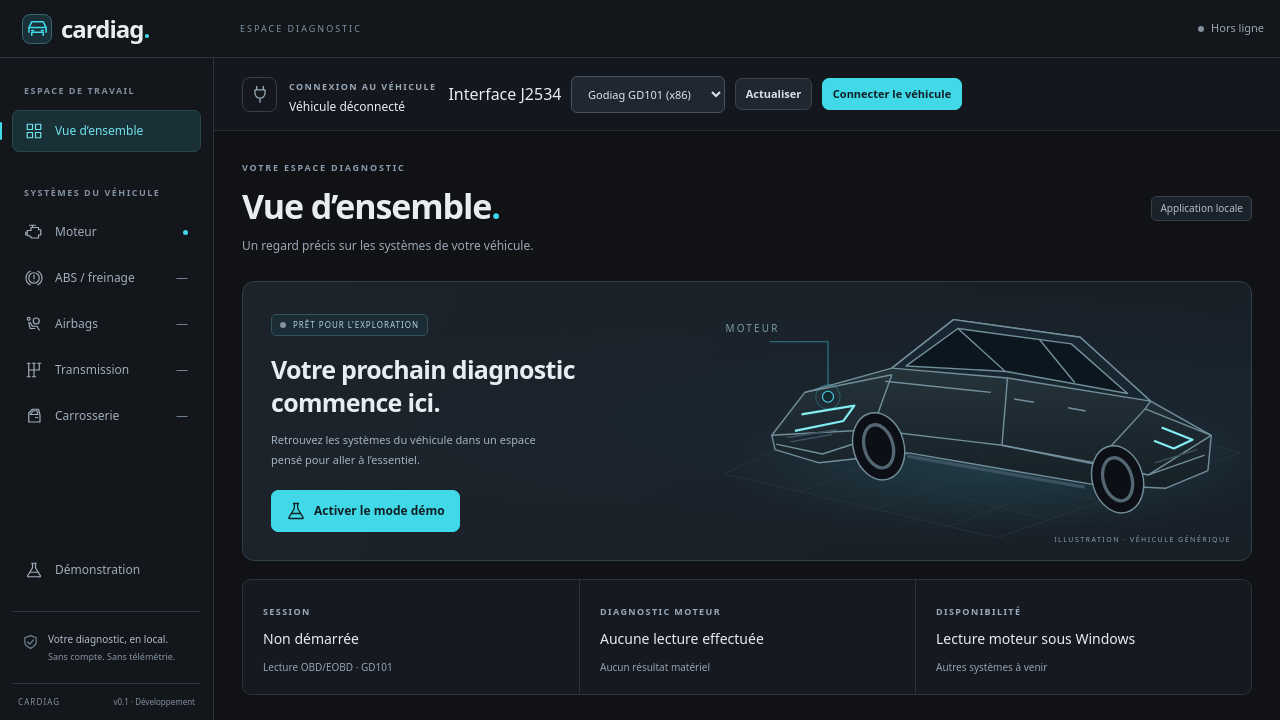
Scenario: lecture matérielle › distingue une lecture vide partielle (false) d’un résultat complet
The image size is (1280, 720).
What coordinates should you click on to do the following:
click the button "Connecter le véhicule"
I would click on:
 (892, 94)
Its box is [822,78,962,110].
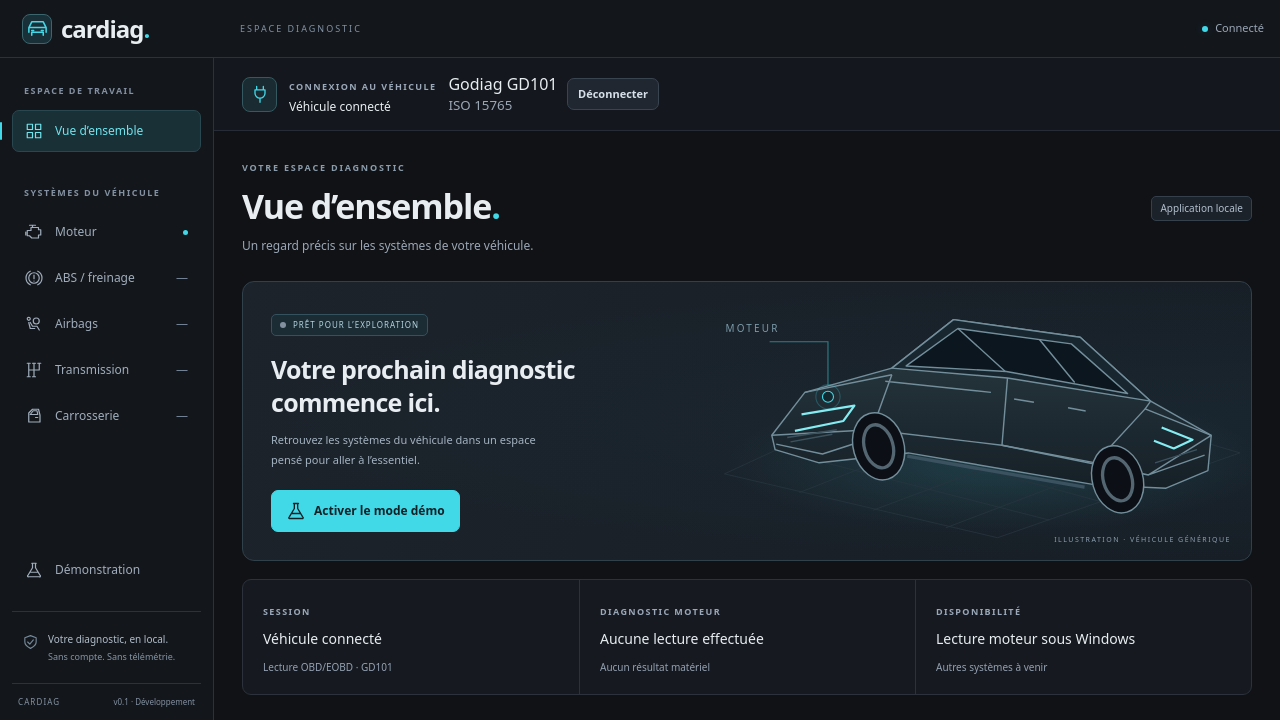
Expected: the message reads "Véhicule connecté", [289,98,391,115]
What coordinates should you click on to do the following:
click the button "Moteur"
I would click on:
 (106, 232)
Its box is [12,211,201,253].
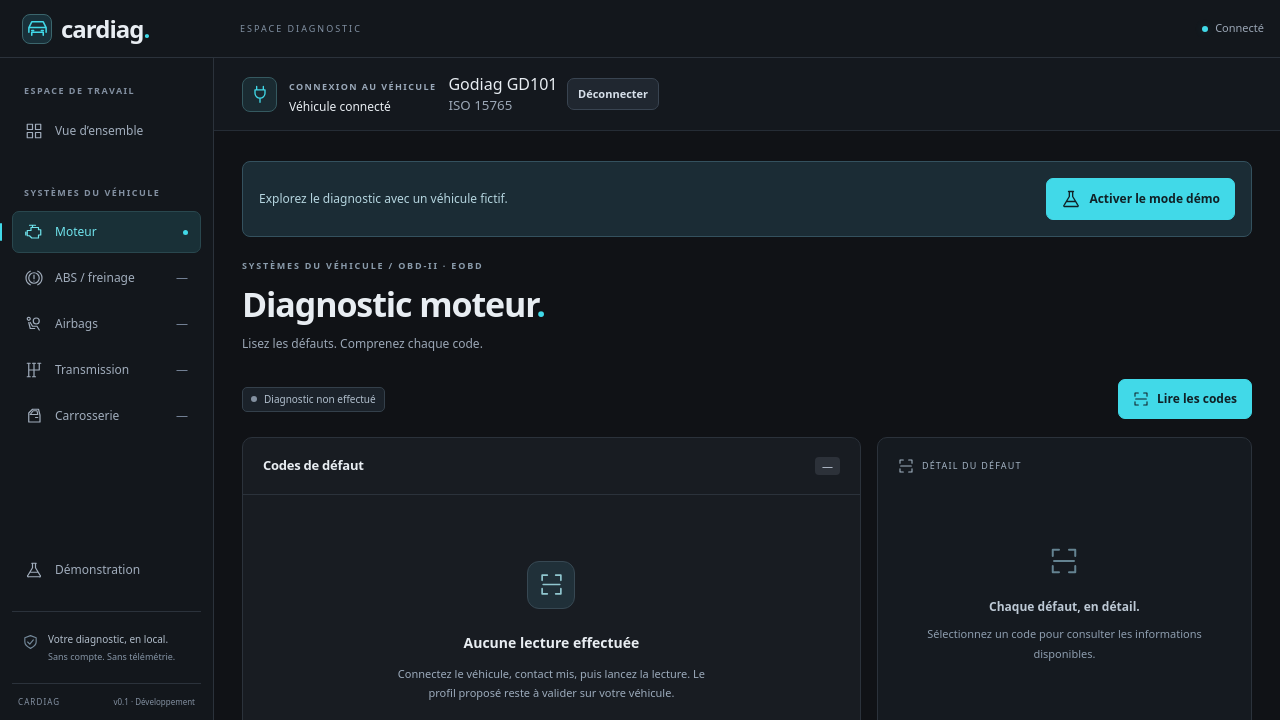
What coordinates should you click on to do the following:
click the button "Lire les codes"
I would click on:
 (1185, 399)
Its box is [1118,379,1252,419].
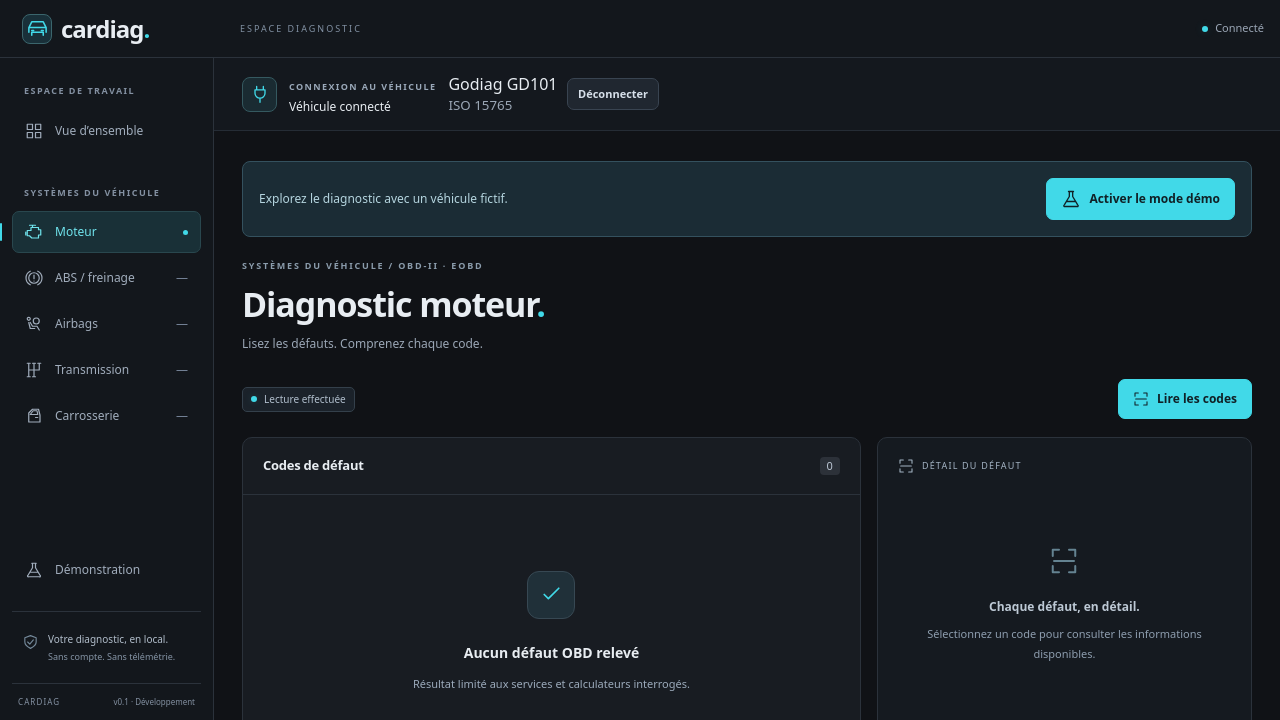
Expected: the button "Lire les codes" is enabled, [1118,379,1252,419]
Expected: the heading "Aucun défaut OBD relevé" is shown, [464,641,639,664]
